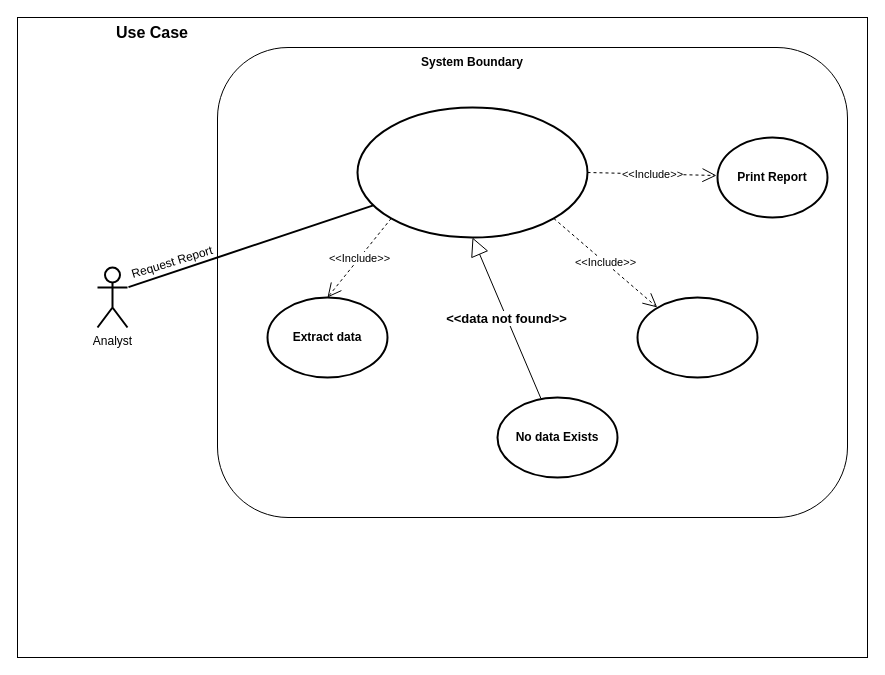
The diagram is 885 pixels wide and 675 high, and some of its shapes have lost their labels. The box of each missing label's shape, as (x1, y1, x2, y2) in pixels:
Request a report on cities in a district by population: (356, 106, 588, 238)
Sort data: (636, 296, 758, 378)
